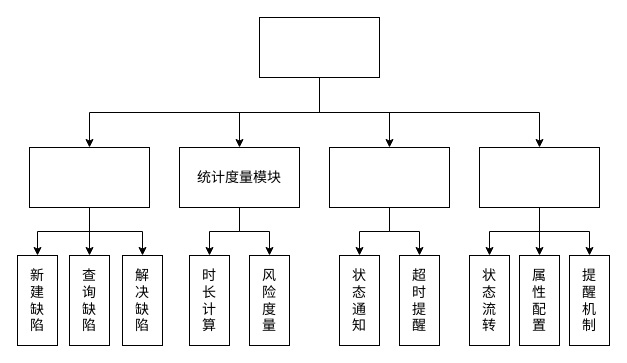
Image size: 627x363. Some labels were removed from this diagram. The shapes that lost their labels are listed below. From the top down, each one's centre as x and y in pixels, then its label:
pixel 319 47: 缺陷管理系统
pixel 89 177: 缺陷处理模块
pixel 389 177: 缺陷提醒模块
pixel 539 177: 模板配置模块
